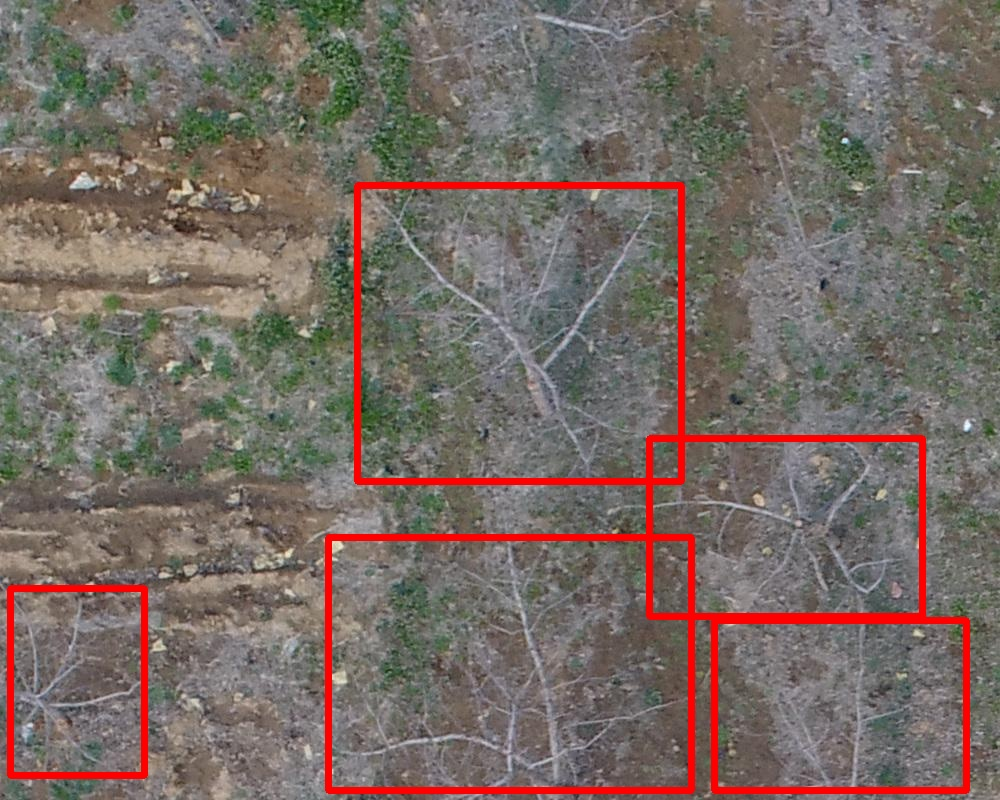apple: (357, 185, 681, 481), (328, 537, 691, 790), (649, 438, 922, 616), (714, 620, 966, 790), (10, 588, 144, 775)
